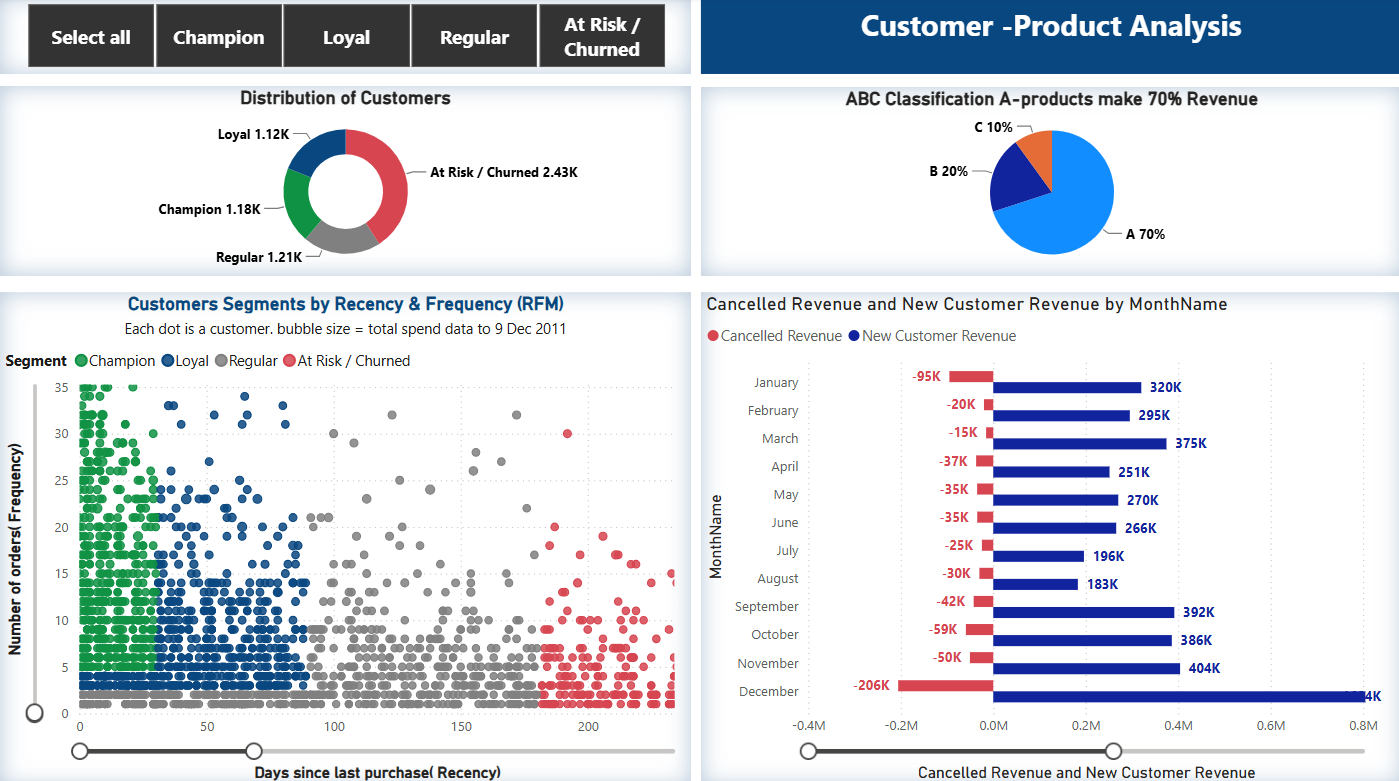

What the dashboard file says about the page in this screenshot:
{"tool":"powerbi","page":{"name":"Customer","canvas":[1280,720],"ordinal":1},"visuals":[{"type":"scatterChart","title":"Customers Segments by Recency & Frequency (RFM)","fields":{"Category":["CustomerRFM.Customer ID"],"Series":["CustomerRFM.Segment"],"Size":["Sum(CustomerRFM.Monetary)"],"X":["Sum(CustomerRFM.Recency)"],"Y":["Sum(CustomerRFM.Frequency)"]},"box":[0,269.1,630.7,451.2],"z":0},{"type":"clusteredBarChart","fields":{"Category":["DimDate.MonthName"],"Y":["All Measures.Cancelled Revenue","All Measures.New Customer Revenue"]},"box":[639.4,269.7,639.4,450.7],"z":1},{"type":"donutChart","title":"Distribution of Customers","fields":{"Category":["CustomerRFM.Segment"],"Y":["CountNonNull(CustomerRFM.Customer ID)"]},"box":[0,81.7,630.7,172.7],"z":3},{"type":"slicer","fields":{"Values":["CustomerRFM.Segment"]},"box":[0,0,630.7,71],"z":4},{"type":"pieChart","title":"ABC Classification A-products make 70% Revenue","fields":{"Category":["DimProduct.ABC Class"],"Y":["All Measures.Net Revenue"]},"box":[639.4,82.3,640.7,172.2],"z":5},{"type":"textbox","box":[639.4,2.5,639.4,68.4],"z":6}]}

Visuals, with their boxes in screenshot pixels (x1, y1, x2, y2), scaled from the page's 1280x720 canvas onto the 1399x781 screenshot:
"Customers Segments by Recency & Frequency (RFM)" scatterChart: bbox=[0, 292, 689, 780]
clusteredBarChart - DimDate.MonthName x All Measures.Cancelled Revenue: bbox=[699, 293, 1398, 780]
"Distribution of Customers" donutChart: bbox=[0, 89, 689, 276]
slicer - CustomerRFM.Segment: bbox=[0, 0, 689, 77]
"ABC Classification A-products make 70% Revenue" pieChart: bbox=[699, 89, 1398, 276]
textbox: bbox=[699, 3, 1398, 77]
